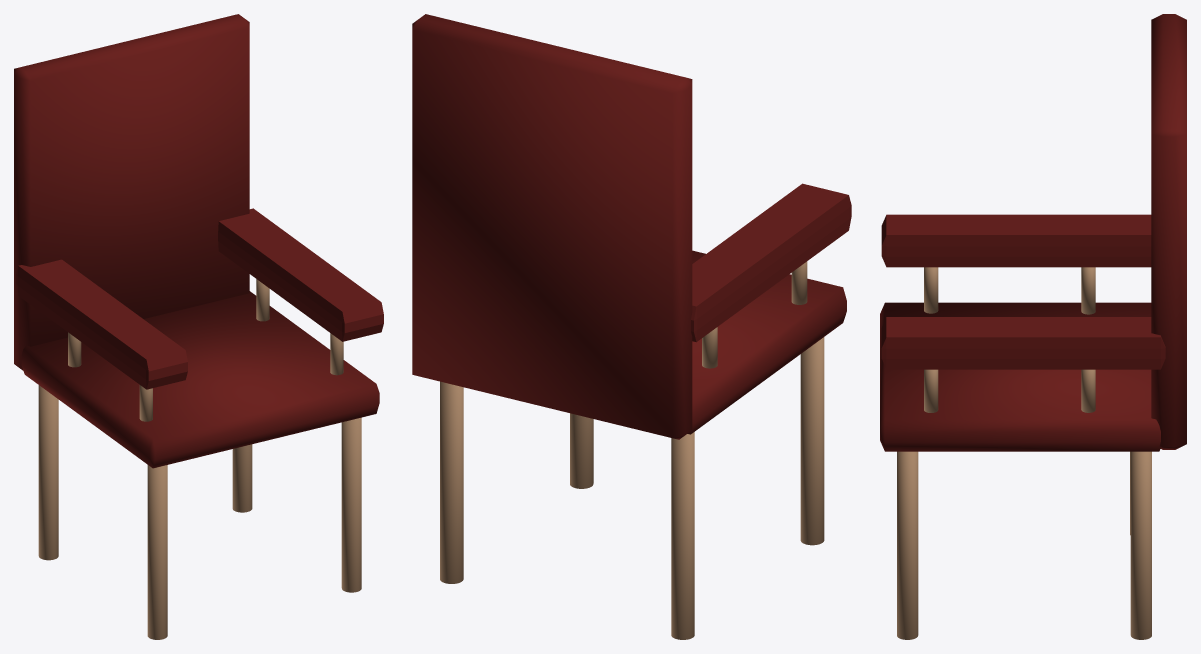
3 views of the same model, side by side, from view 1: azimuth 30°, elevation 25°; view 2: azimuth 150°, elevation 25°; view 3: azimuth 270°, elevation 25° (orthographic). The views are drawn at different scales.
Parts seen in each view (by area): view 1: Cube.001, Cube, Cube.003, Cube.002, Cylinder, Cylinder.001, Cylinder.003, Cylinder.002, Cylinder.005, Cylinder.007; view 2: Cube.001, Cube.003, Cube, Cylinder, Cylinder.003, Cylinder.002, Cylinder.001, Cylinder.004; view 3: Cube, Cube.001, Cube.002, Cube.003, Cylinder.001, Cylinder.002, Cylinder.006, Cylinder.004, Cylinder.007, Cylinder.005.
Boxes of the visible parts, <box> form: Cube.001: <box>14,14,249,370</box>; Cube: <box>21,291,379,468</box>; Cube.003: <box>16,259,187,389</box>; Cube.002: <box>218,208,383,341</box>; Cylinder: <box>147,465,167,639</box>; Cylinder.001: <box>341,417,361,592</box>; Cylinder.003: <box>38,385,58,560</box>; Cylinder.002: <box>232,444,252,512</box>; Cylinder.005: <box>256,279,269,321</box>; Cylinder.007: <box>330,333,343,375</box>; Cube.001: <box>412,14,692,439</box>; Cube.003: <box>691,183,851,342</box>; Cube: <box>687,250,846,434</box>; Cylinder: <box>800,337,824,545</box>; Cylinder.003: <box>671,432,694,639</box>; Cylinder.002: <box>440,381,463,583</box>; Cylinder.001: <box>570,413,593,488</box>; Cylinder.004: <box>791,261,807,304</box>; Cube: <box>880,302,1160,451</box>; Cube.001: <box>1151,14,1186,449</box>; Cube.002: <box>881,317,1165,369</box>; Cube.003: <box>881,214,1151,267</box>; Cylinder.001: <box>897,451,918,639</box>; Cylinder.002: <box>1130,451,1151,639</box>; Cylinder.006: <box>1081,267,1095,314</box>; Cylinder.004: <box>924,267,938,313</box>; Cylinder.007: <box>924,369,938,412</box>; Cylinder.005: <box>1081,369,1095,412</box>.
Bounding box in the file's own units: 0.4109 × 0.798 × 0.432.
